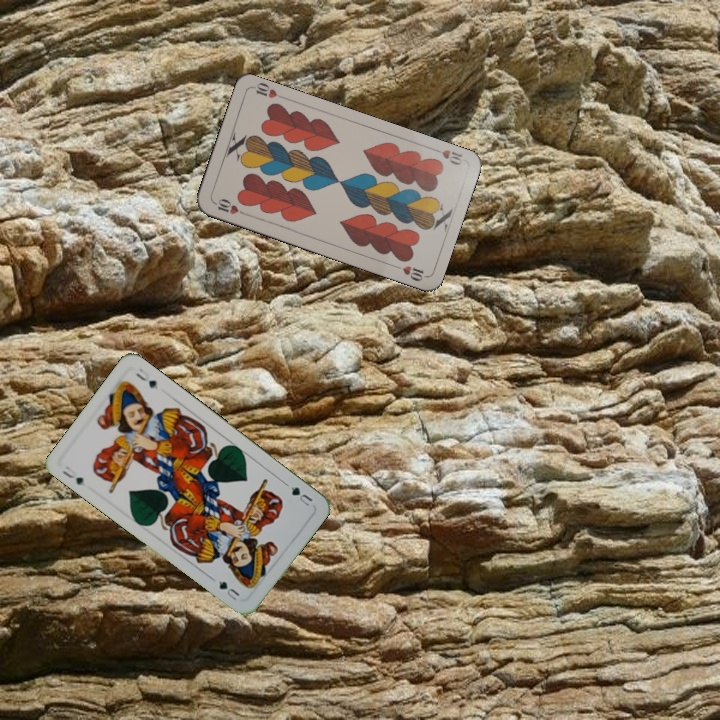GU: (287, 482, 315, 509), (58, 463, 86, 488)
H10: (210, 195, 249, 218), (428, 144, 465, 168)
